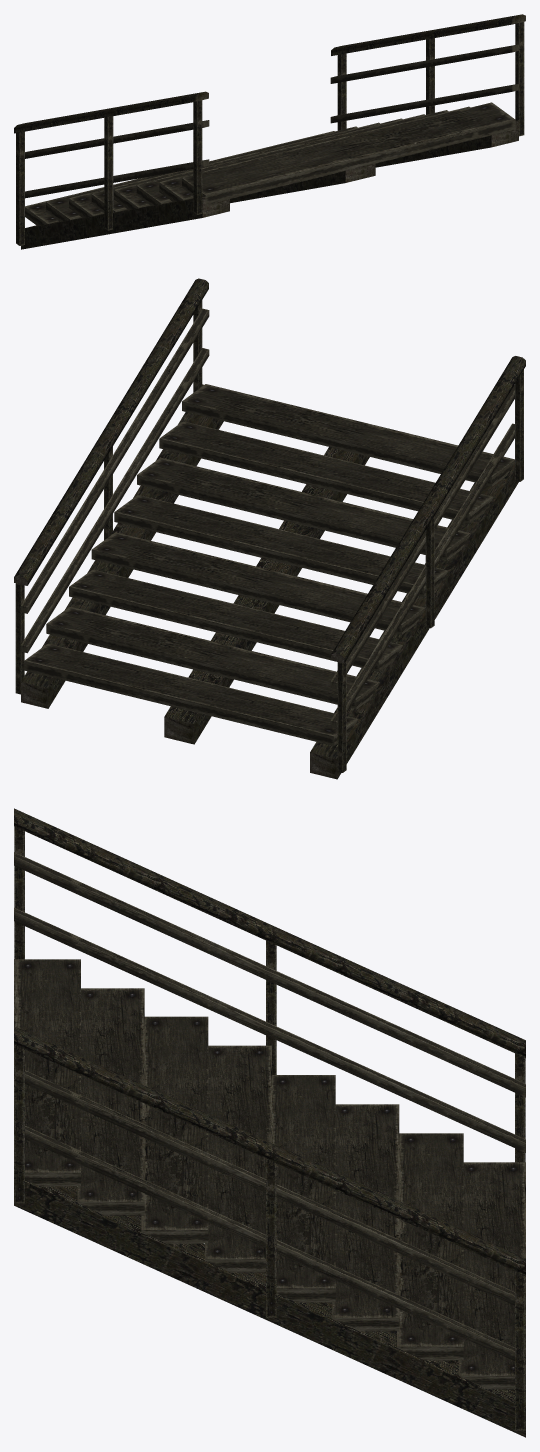
File: wood.dae
3 renders of one model, top to bottom at view 1: azimuth 30°, elevation 25°; view 2: azimuth 150°, elevation 25°; view 3: azimuth 270°, elevation 25°, orthographic. The views are drawn at different scales.
Parts seen in each view (by area): view 1: Box005, Box013; view 2: Box005, Box013; view 3: Box005, Box013.
Part boxes in pixels (bbox=[...]): Box005: bbox=[16, 22, 524, 245]; Box013: bbox=[14, 14, 525, 249]; Box005: bbox=[15, 300, 523, 772]; Box013: bbox=[14, 278, 525, 779]; Box005: bbox=[14, 826, 525, 1430]; Box013: bbox=[14, 808, 525, 1437].
Size of the model in its own units: 4.2 by 3.53 by 4.
